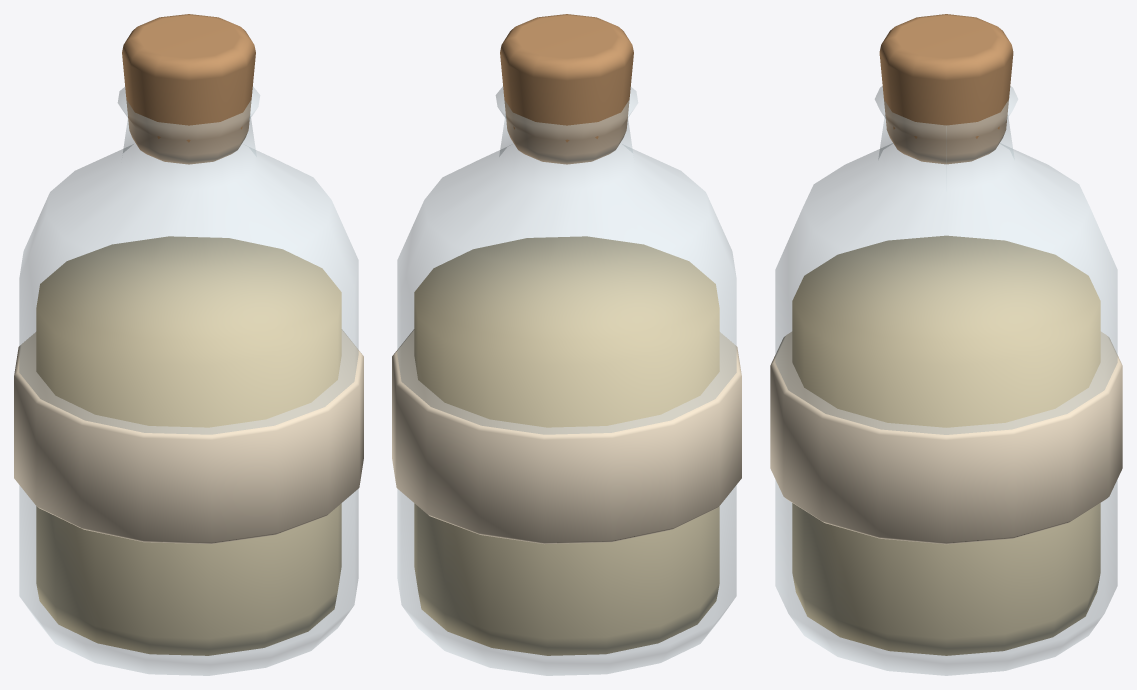
File: stock-bottle.glb
3 views of the same model, side by side, from view 1: azimuth 30°, elevation 25°; view 2: azimuth 150°, elevation 25°; view 3: azimuth 270°, elevation 25° (orthographic).
Parts seen in each view (by area): view 1: stock-bottle; view 2: stock-bottle; view 3: stock-bottle.
Boxes of the visible parts, box(x1,y1,x2,y2) form: stock-bottle: box(14, 14, 363, 675); stock-bottle: box(392, 14, 741, 675); stock-bottle: box(770, 14, 1122, 675).
Size of the model in its own units: 0.103 by 0.185 by 0.103.
